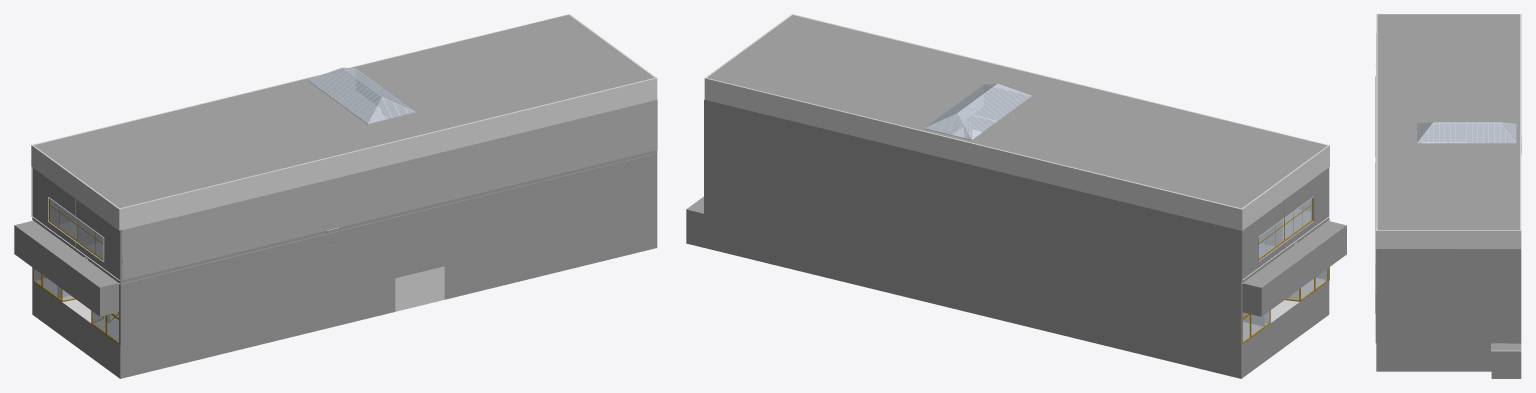
3 views of the same model, side by side, from view 1: azimuth 30°, elevation 25°; view 2: azimuth 150°, elevation 25°; view 3: azimuth 270°, elevation 25° (orthographic). The views are drawn at different scales.
Parts seen in each view (by area): view 1: pPlane1, polySurface158, polySurface3, polySurface520, polySurface725, polySurface139, polySurface583, polySurface723, polySurface916, polySurface582, polySurface728, polySurface516 (+2 smaller); view 2: polySurface3, pPlane1, polySurface725, polySurface139, polySurface583, polySurface582, polySurface728, polySurface516, polySurface520, polySurface588; view 3: pPlane1, polySurface3, polySurface725, polySurface583, polySurface582, polySurface158, polySurface520, polySurface588.
Boxes of the visible parts, x1,y1,x2,y2 form: pPlane1: [34, 15, 654, 208]; polySurface158: [119, 153, 657, 345]; polySurface3: [32, 150, 657, 378]; polySurface520: [31, 91, 657, 268]; polySurface725: [31, 14, 657, 230]; polySurface139: [14, 220, 118, 316]; polySurface583: [308, 67, 415, 123]; polySurface723: [75, 199, 170, 279]; polySurface916: [395, 266, 444, 311]; polySurface582: [309, 69, 414, 117]; polySurface728: [50, 199, 103, 258]; polySurface516: [34, 269, 118, 342]; polySurface3: [686, 100, 1329, 378]; pPlane1: [707, 15, 1327, 208]; polySurface725: [704, 14, 1329, 230]; polySurface139: [1242, 221, 1346, 316]; polySurface583: [924, 83, 1031, 139]; polySurface582: [925, 85, 1030, 133]; polySurface728: [1258, 198, 1311, 258]; polySurface516: [1243, 269, 1327, 341]; polySurface520: [705, 100, 1242, 280]; polySurface588: [923, 84, 1032, 140]; pPlane1: [1377, 14, 1519, 230]; polySurface3: [1376, 249, 1521, 378]; polySurface725: [1376, 14, 1521, 248]; polySurface583: [1417, 122, 1516, 143]; polySurface582: [1417, 124, 1515, 141]; polySurface158: [1375, 76, 1376, 342]; polySurface520: [1376, 53, 1520, 289]; polySurface588: [1417, 122, 1516, 143].
Size of the model in its own units: 5389 by 1653 by 1438.
